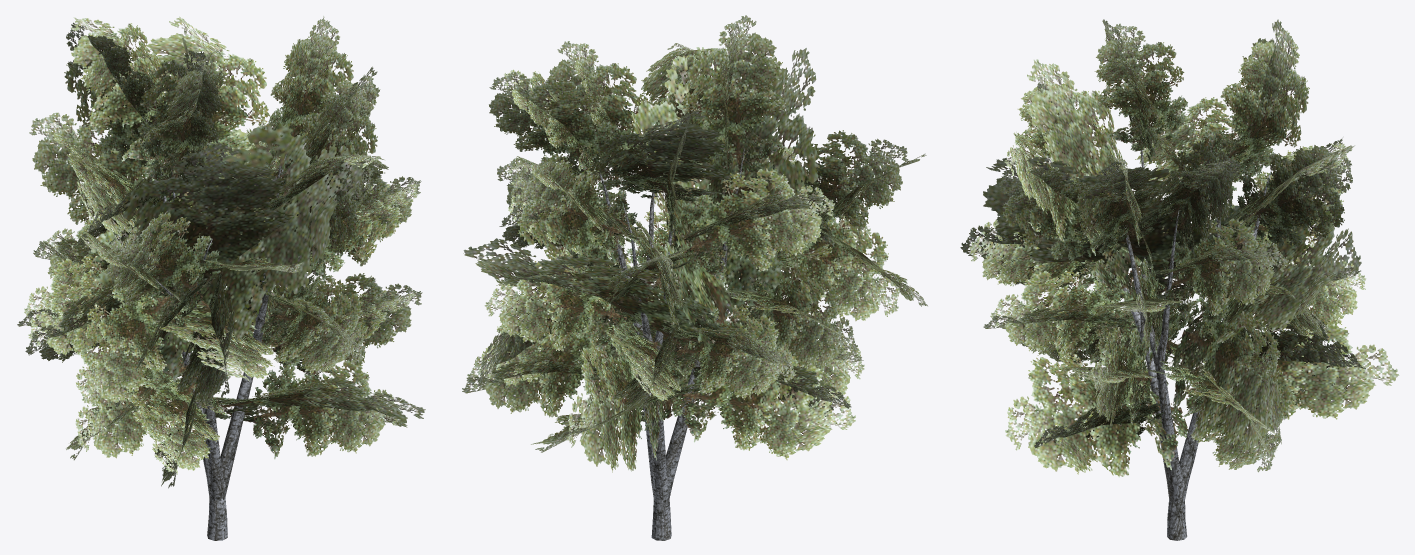
Rendered from SM_Tree_05.fbx.
3 renders of one model, left to right at view 1: azimuth 30°, elevation 25°; view 2: azimuth 150°, elevation 25°; view 3: azimuth 270°, elevation 25°, orthographic. The views are drawn at different scales.
Visible parts, largest first — view 1: SM_Tree_05; view 2: SM_Tree_05; view 3: SM_Tree_05.
Part boxes in pixels (bbox=[...]): SM_Tree_05: bbox=[17, 16, 425, 540]; SM_Tree_05: bbox=[462, 15, 927, 540]; SM_Tree_05: bbox=[960, 19, 1399, 540].
Bounding box in the file's own units: 1389 × 1408 × 1744.
Materials: 2 (2 with a texture image).
